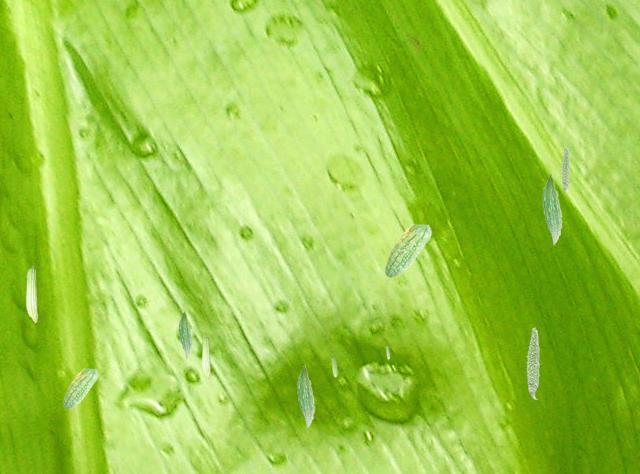ampalaya: (384, 223, 432, 278), (62, 367, 98, 409), (542, 173, 562, 245), (296, 364, 315, 428), (526, 326, 540, 400), (25, 265, 38, 323), (178, 310, 192, 359), (560, 146, 570, 193), (201, 335, 211, 379), (330, 356, 338, 377), (385, 344, 390, 359)
